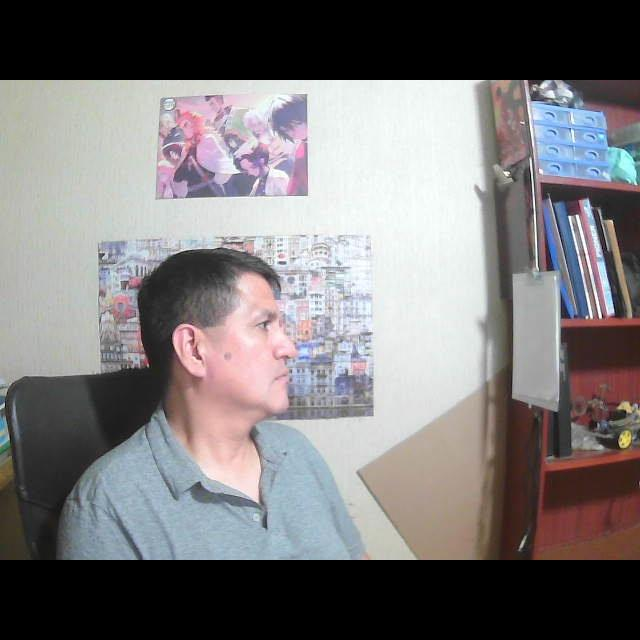cesar: (119, 234, 308, 442)
